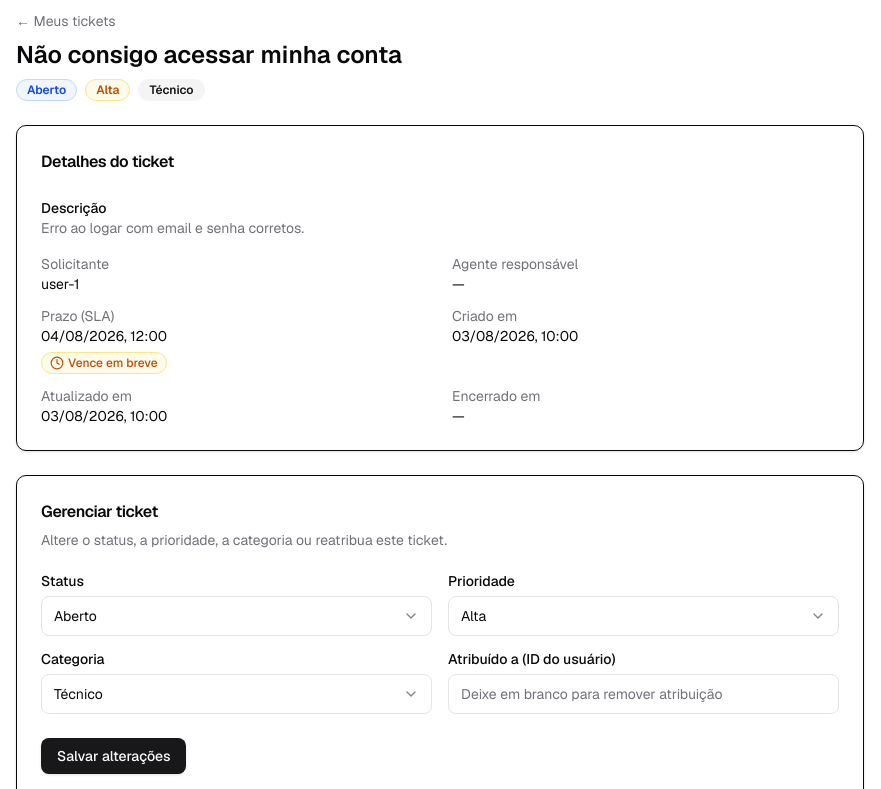
Test: TicketDetailPage (SPEC-07) › AGENT altera o status do ticket via PATCH e a UI reflete a mudança sem reload completo (RF03)
What coordinates should you click on to do the following:
click the dropdown named "Status"
I would click on:
 (75, 616)
Its box is [41,596,432,636].
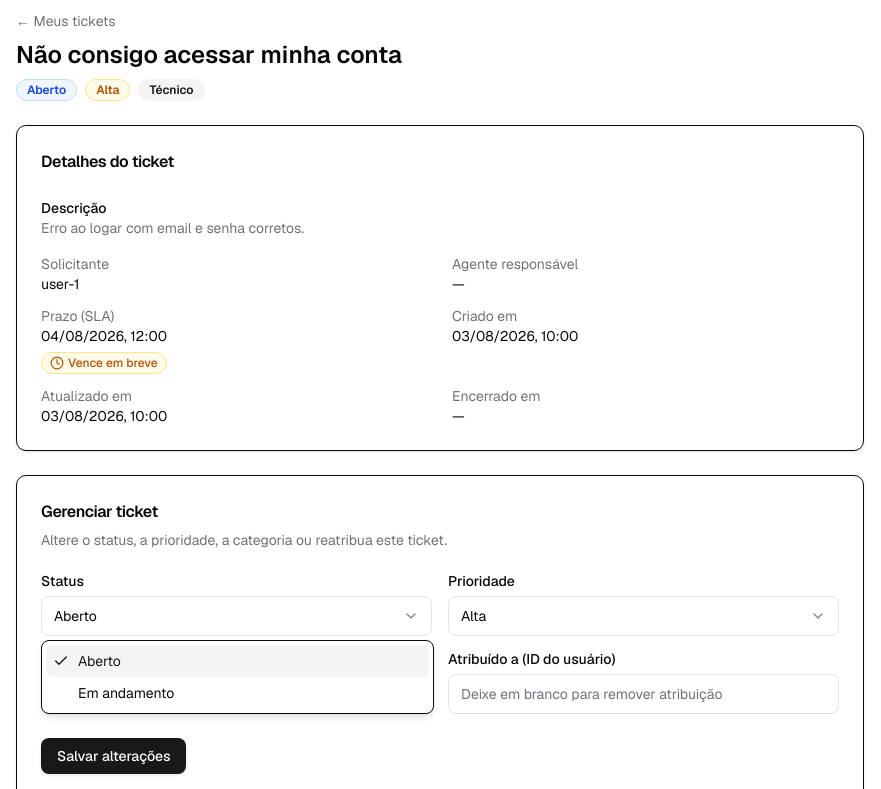
What coordinates should you click on to do the following:
click the option "Em andamento"
I would click on:
 (126, 693)
Its box is [78,684,174,702].
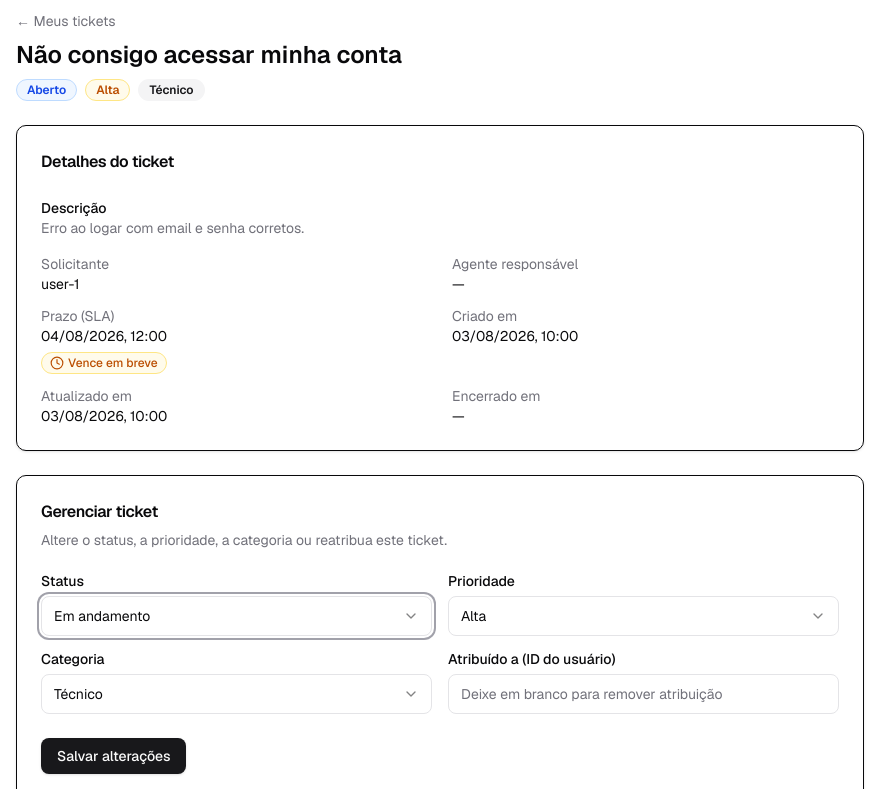
What coordinates should you click on to do the following:
click the button "Salvar alterações"
I would click on:
 (114, 756)
Its box is [41,738,186,774].
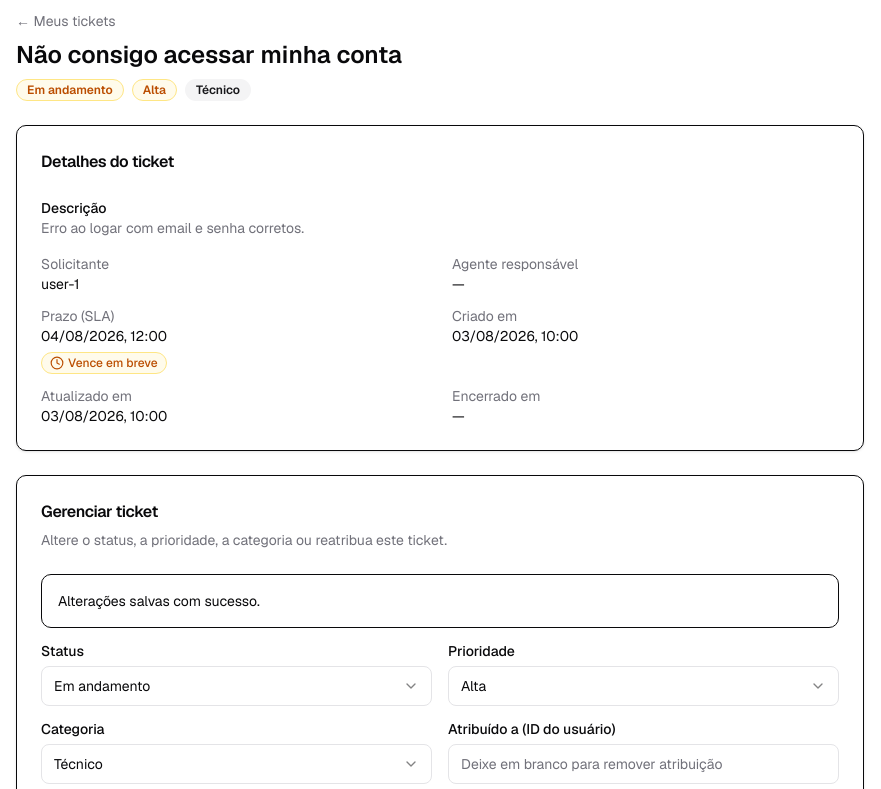
Expected: the text "Alterações salvas com sucesso." is shown, [58,592,260,610]
Expected: the text "Em andamento" below "Não consigo acessar minha conta" is shown, [27,82,113,98]
